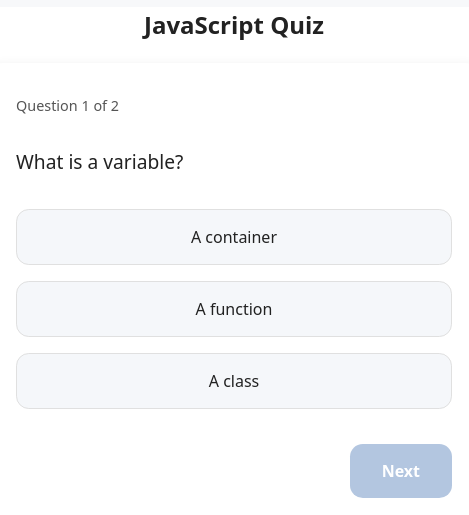
Test: JSQuizPage › navigates to the next question when Next button is clicked
The width and height of the screenshot is (469, 515).
Note: Select an option
Click the button "A container" at (234, 237), box [16,209,452,265]
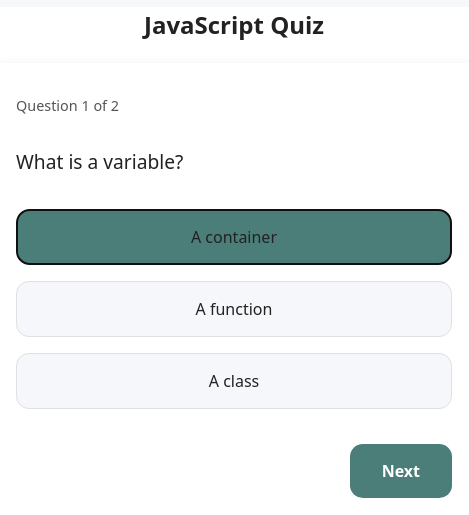
Note: Click Next button
Click the button "Next" at (401, 471), box [350,444,452,498]
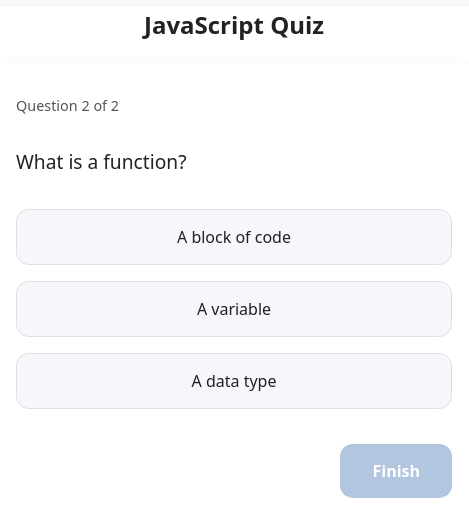
Now the text "What is a function?" is shown, box [16,148,186,175]
